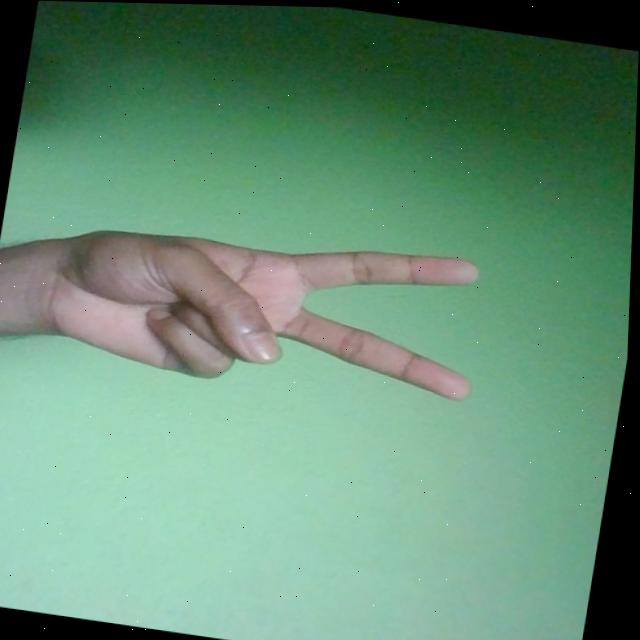Peace: (32, 196, 494, 414)
